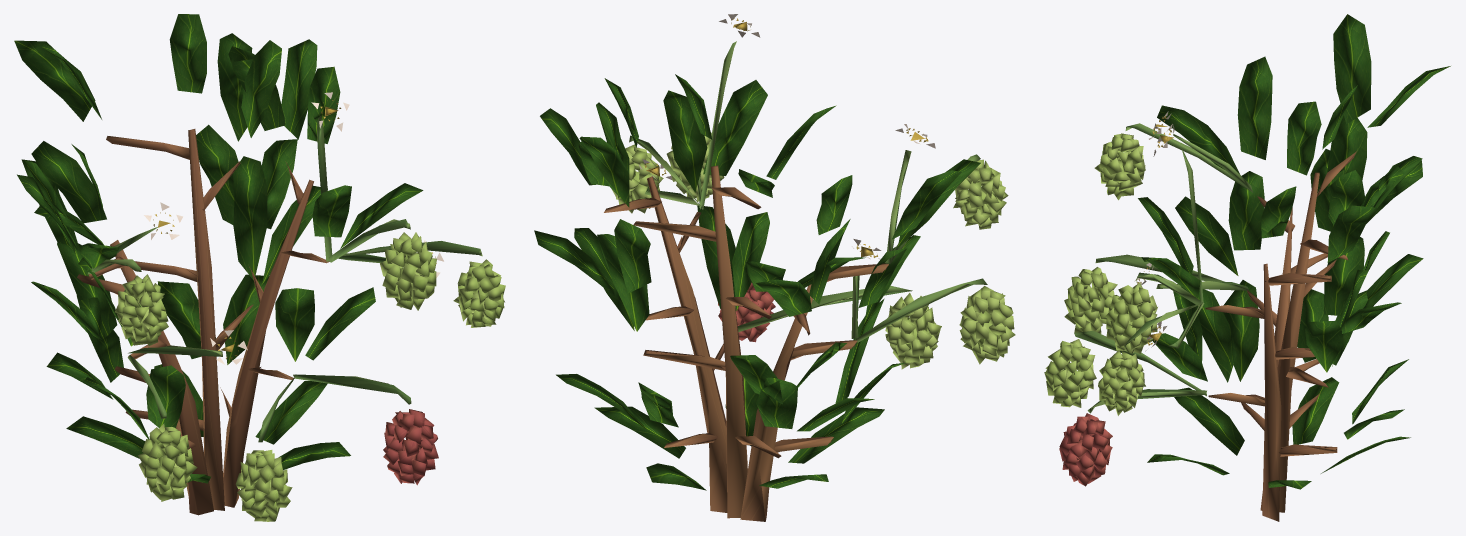
Rendered from NP_Blackberry_Flowering_LOD1.fbx.
3 views of the same model, side by side, from view 1: azimuth 30°, elevation 25°; view 2: azimuth 150°, elevation 25°; view 3: azimuth 270°, elevation 25° (orthographic). The views are drawn at different scales.
Visible parts, largest first — view 1: NP_Blackberry_Flowering; view 2: NP_Blackberry_Flowering; view 3: NP_Blackberry_Flowering.
Boxes of the visible parts, bbox=[...] form: NP_Blackberry_Flowering: bbox=[14, 14, 505, 521]; NP_Blackberry_Flowering: bbox=[534, 14, 1015, 521]; NP_Blackberry_Flowering: bbox=[1044, 14, 1450, 521].
Size of the model in its own units: 86.88 by 94.29 by 80.11.
